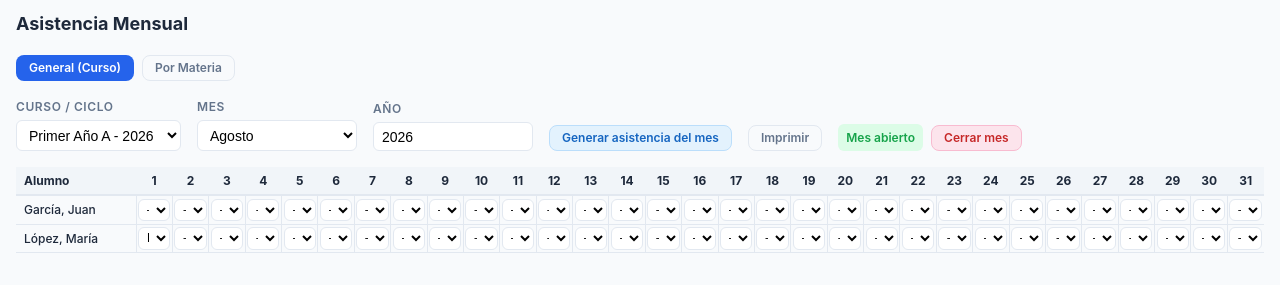
Test: AsistenciaMensualPage › WM-07: switching to materia mode shows materia selector
Click the button with test id "tab-materia".
click(188, 68)  # box [142,55,235,81]
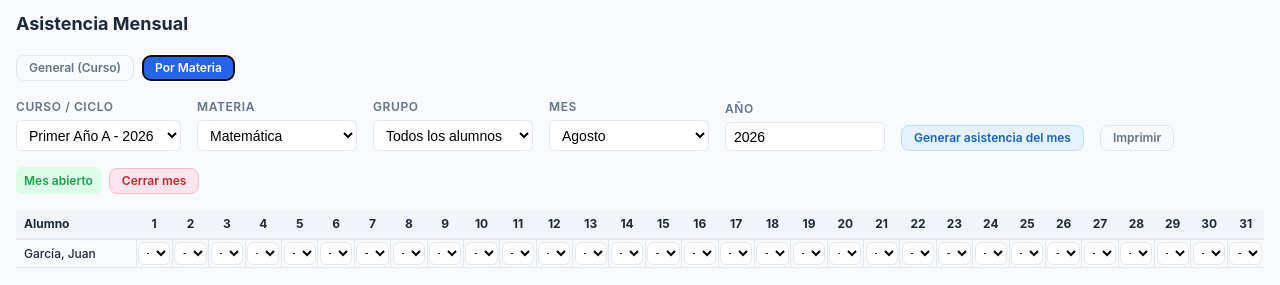
Expected: the dropdown with test id "materia-selector" is shown, [197,120,357,151]
